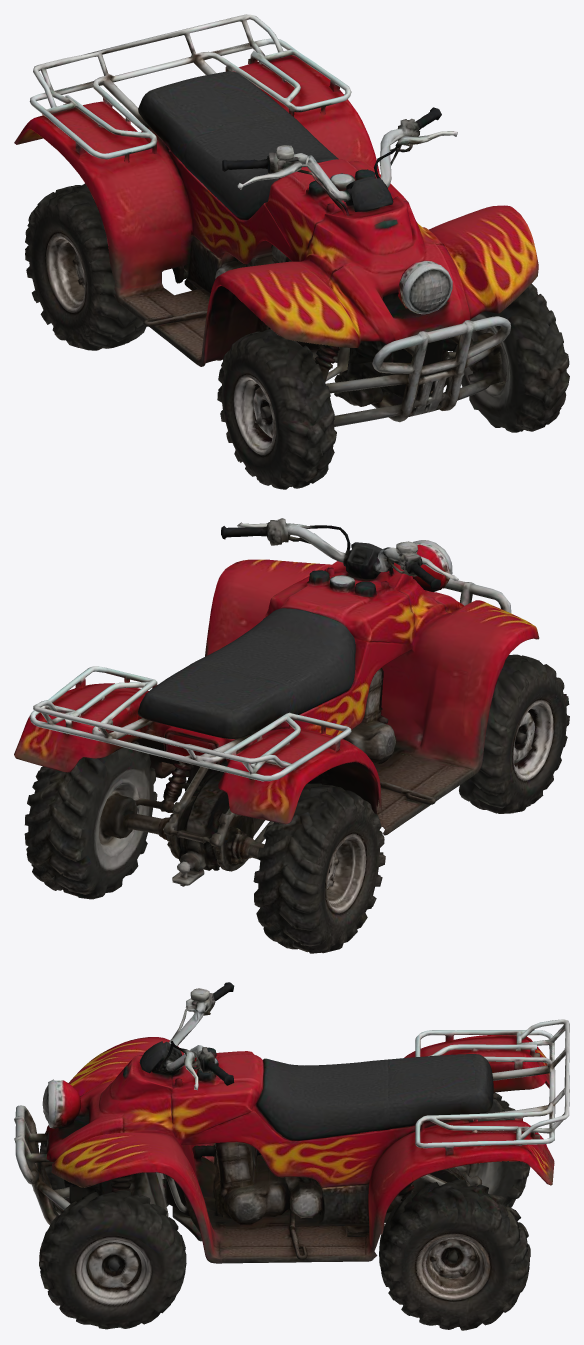
File: flame_quad_ai.glb
The picture shows the model from 3 angles, top to bottom: view 1: azimuth 30°, elevation 25°; view 2: azimuth 150°, elevation 25°; view 3: azimuth 270°, elevation 25°; orthographic projection. The views are drawn at different scales.
Parts seen in each view (by area): view 1: Body, Wheel_FR, Wheel_RR, Wheel_FL; view 2: Body, Wheel_RR, Wheel_RL, Wheel_FR; view 3: Body, Wheel_RL, Wheel_FL, Wheel_RR.
Part boxes in pixels (x1,y1,x2,y2): Body: (14, 14, 538, 426); Wheel_FR: (217, 329, 345, 489); Wheel_RR: (25, 183, 146, 350); Wheel_FL: (448, 283, 569, 432); Body: (14, 518, 539, 886); Wheel_RR: (253, 783, 385, 953); Wheel_RL: (24, 741, 160, 899); Wheel_FR: (459, 654, 569, 813); Body: (14, 982, 569, 1263); Wheel_RL: (379, 1179, 530, 1330); Wheel_FL: (39, 1190, 186, 1329); Wheel_RR: (465, 1092, 530, 1207).
Size of the model in its own units: 1.96 by 1.82 by 3.58.
Materials: 1 (1 with a texture image).
